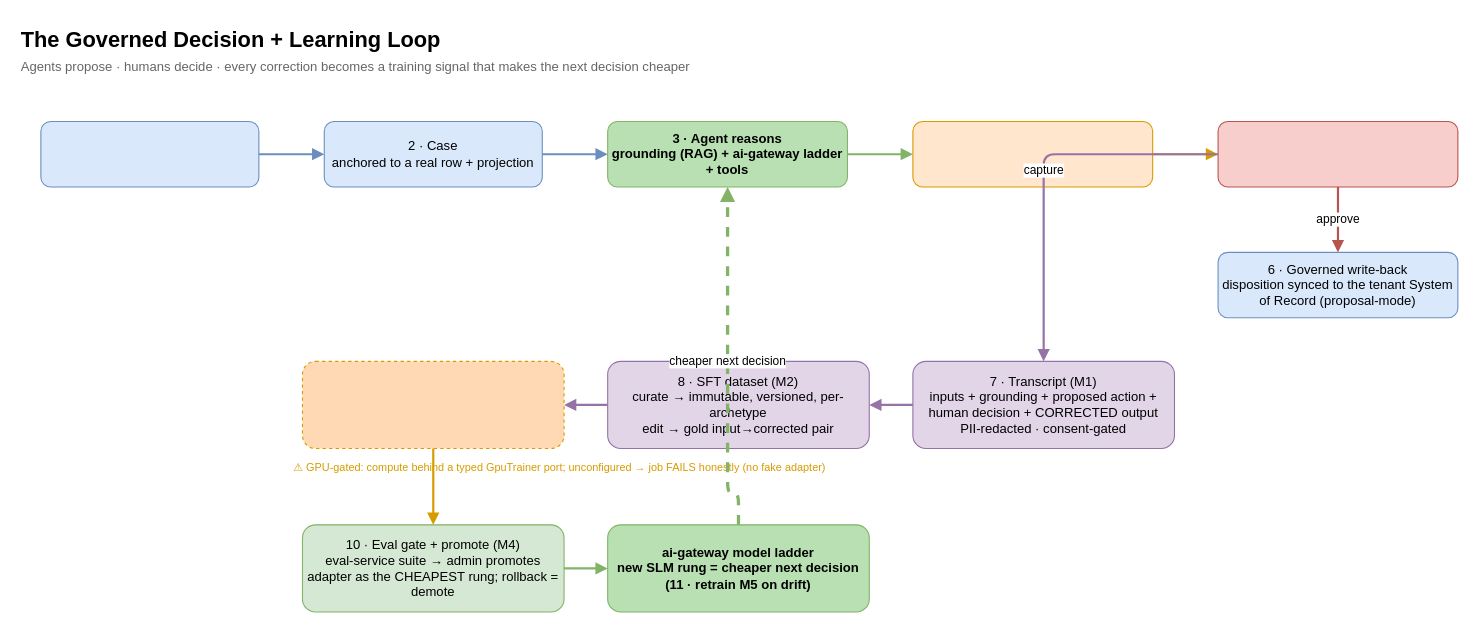
The diagram is 1477 pixels wide and 631 high, and some of its shapes have lost their labels. The shapes that lost their labels are listed below. From the top down, each one's centre as x and y in pixels, then its label:
At (149,153): "1 · Intake ingest → versioned dataset (Iceberg)".
At (1032,153): "4 · Proposal (inert) write-intent + rationale + provenance".
At (1337,153): "5 · Human decides approve / edit / reject · four-eyes".
At (432,404): "9 · Distill / LoRA train (M3) GPU node pool → candidate adapter → MLflow".
